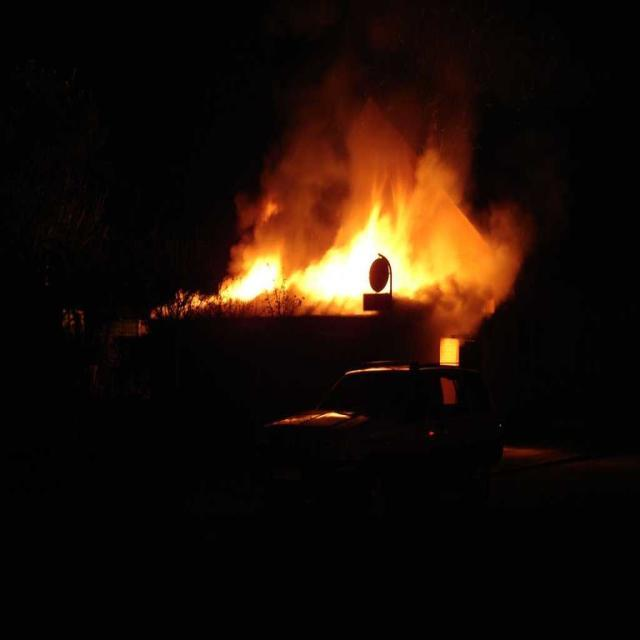Fire: (302, 258, 363, 300), (236, 258, 282, 294)
Smoke: (311, 116, 454, 224)
